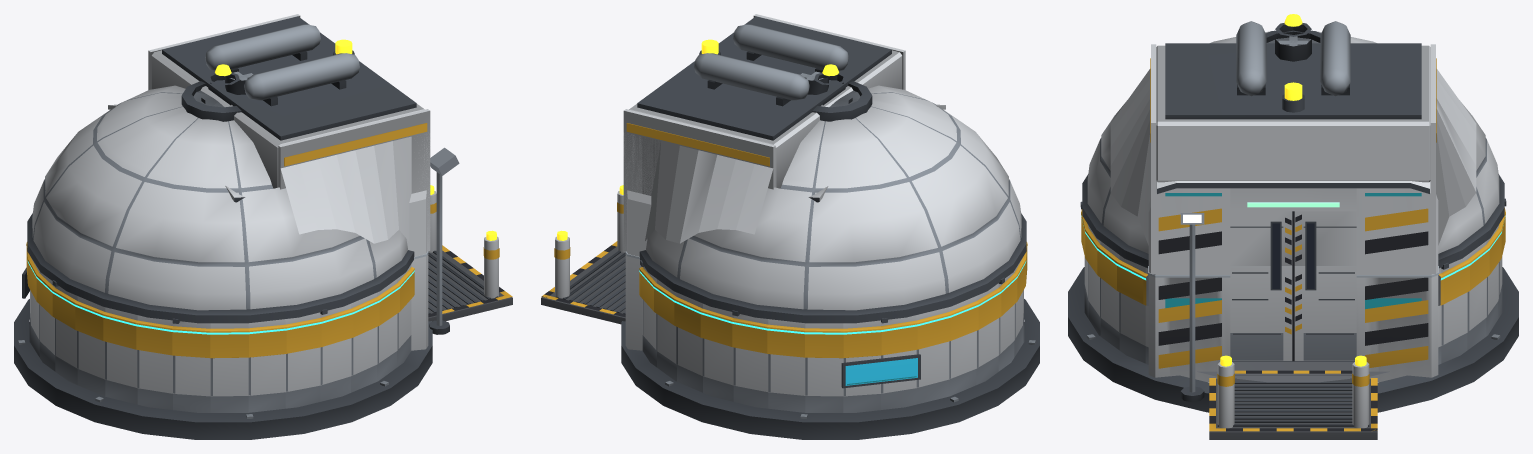
The model's file is airlock_r28.glb.
3 renders of one model, left to right at view 1: azimuth 30°, elevation 25°; view 2: azimuth 150°, elevation 25°; view 3: azimuth 270°, elevation 25°, orthographic. The views are drawn at different scales.
Visible parts, largest first — view 1: Roof, Base, Porch, Wall_21, Wall_20, Wall_22, Wall_19, Wall_23, Wall_18, Wall_24, Wall_17, Wall_25 (+8 smaller); view 2: Roof, Base, Porch, Wall_10, Wall_09, Wall_08, Wall_07, Wall_13, Wall_14, Wall_11, Wall_06, Wall_12 (+8 smaller); view 3: Roof, OuterFrameTop, OuterFrame, Porch, Base, OuterDoorL, OuterDoorR, OuterDoorLTop, OuterDoorRTop, Wall_04, Wall_27, Wall_05 (+9 smaller).
Boxes of the visible parts, x1,y1,x2,y2 form: Roof: (27, 14, 430, 323); Base: (14, 299, 432, 439); Porch: (428, 185, 512, 334); Wall_21: (210, 323, 248, 412); Wall_20: (172, 318, 210, 412); Wall_22: (248, 319, 286, 412); Wall_19: (136, 315, 172, 409); Wall_23: (285, 312, 321, 408); Wall_18: (103, 307, 137, 404); Wall_24: (320, 303, 353, 401); Wall_17: (75, 296, 105, 396); Wall_25: (351, 292, 379, 392); Roof: (623, 14, 1026, 323); Base: (621, 299, 1039, 439); Porch: (541, 185, 625, 324); Wall_10: (805, 323, 843, 412); Wall_09: (767, 319, 805, 412); Wall_08: (732, 310, 768, 408); Wall_07: (700, 303, 733, 401); Wall_13: (916, 307, 950, 404); Wall_14: (948, 296, 978, 396); Wall_11: (843, 320, 881, 412); Wall_06: (674, 292, 702, 392); Wall_12: (881, 315, 917, 409); Roof: (1082, 21, 1504, 273); OuterFrameTop: (1148, 181, 1438, 274); OuterFrame: (1148, 275, 1438, 382); Porch: (1180, 291, 1377, 439); Base: (1068, 267, 1518, 412); OuterDoorL: (1230, 266, 1293, 361); OuterDoorR: (1293, 266, 1356, 361); OuterDoorLTop: (1230, 211, 1293, 265); OuterDoorRTop: (1293, 211, 1356, 265); Wall_04: (1441, 255, 1470, 363); Wall_27: (1116, 255, 1145, 363); Wall_05: (1467, 241, 1489, 350).
Size of the model in its own units: 6.38 by 4.06 by 5.35.
